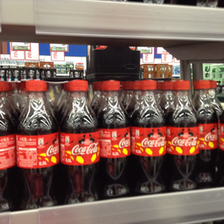soda: (17, 80, 58, 209), (59, 80, 98, 204), (96, 80, 132, 199), (133, 79, 167, 194), (167, 80, 199, 192), (191, 80, 218, 188)
